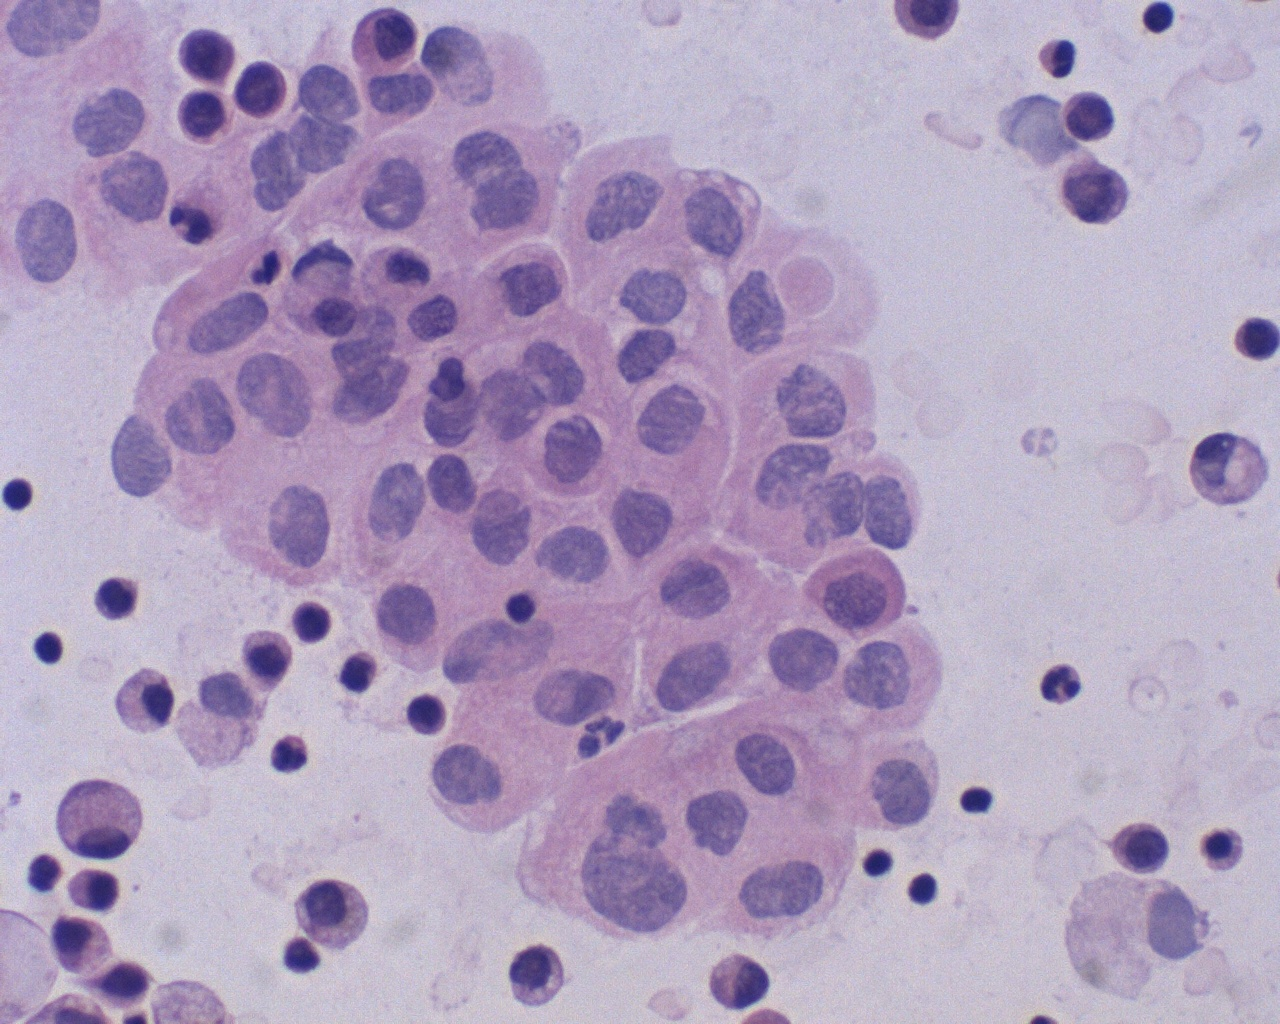ab: (798, 545, 912, 638), (854, 732, 945, 838), (342, 1, 426, 75), (1053, 153, 1128, 227), (232, 56, 290, 122), (174, 86, 234, 148), (174, 25, 235, 85), (1058, 84, 1116, 145)
lymph: (288, 594, 336, 651), (401, 689, 453, 737), (31, 627, 74, 675), (1134, 1, 1180, 38), (1, 473, 38, 517), (906, 868, 941, 909), (502, 591, 538, 628), (955, 783, 996, 815), (860, 845, 894, 882)
meso: (54, 774, 149, 859), (288, 879, 373, 952), (108, 664, 177, 738), (705, 947, 775, 1015), (1109, 817, 1170, 875), (1197, 820, 1247, 876)
neutro: (1037, 658, 1090, 707), (1035, 32, 1087, 83), (266, 723, 312, 776)
